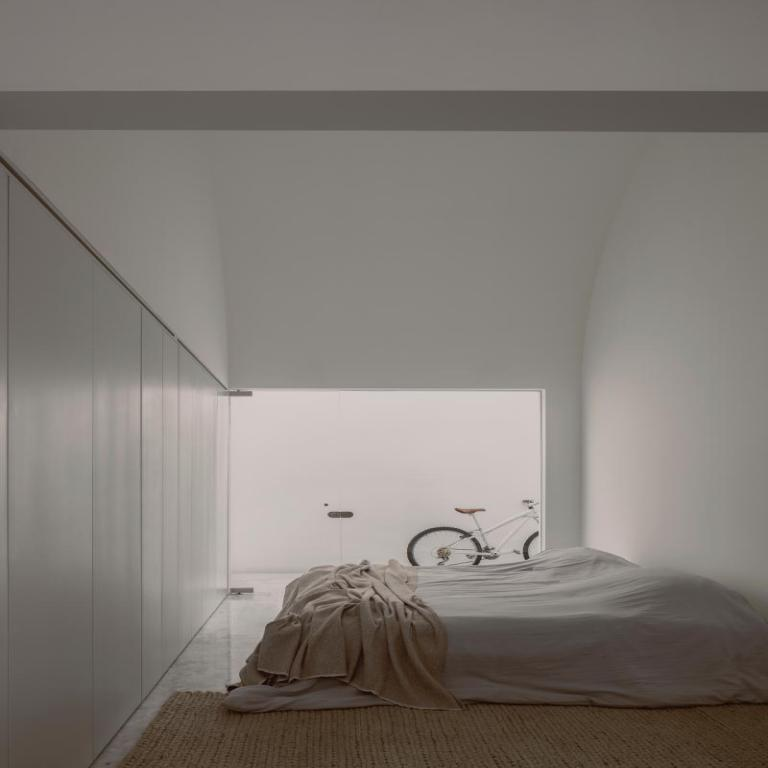white-walls: (58, 191, 742, 543)
